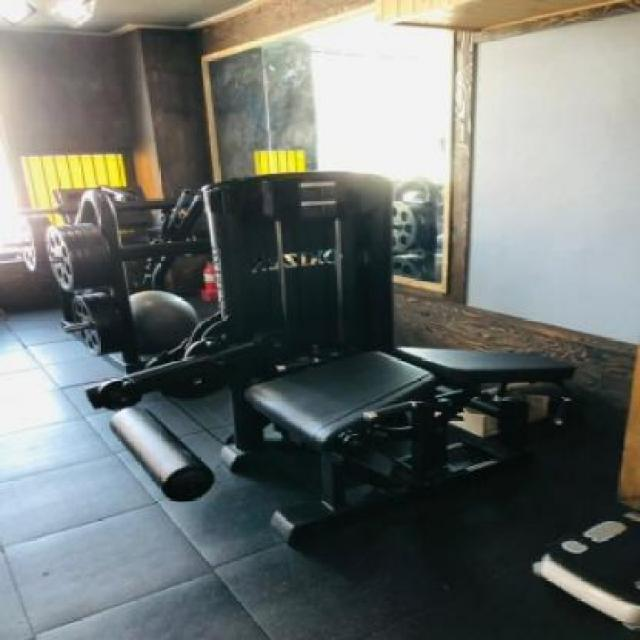reg curl machine: (80, 171, 595, 551)
